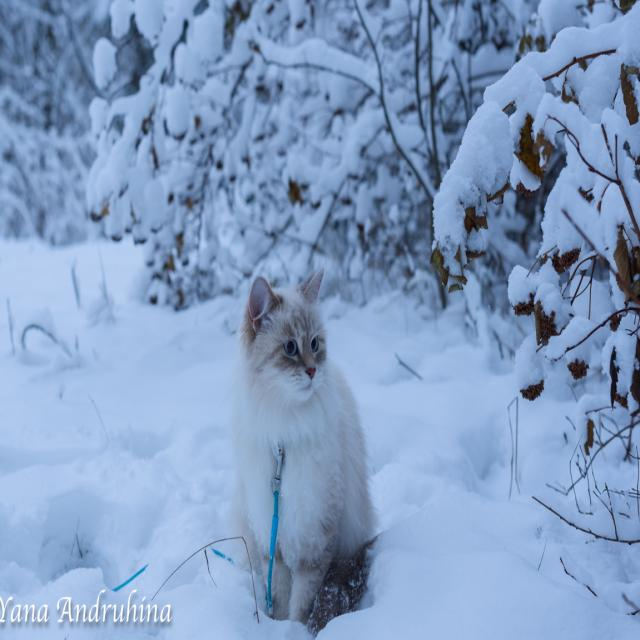Neva Masquerade: (225, 260, 382, 634)
